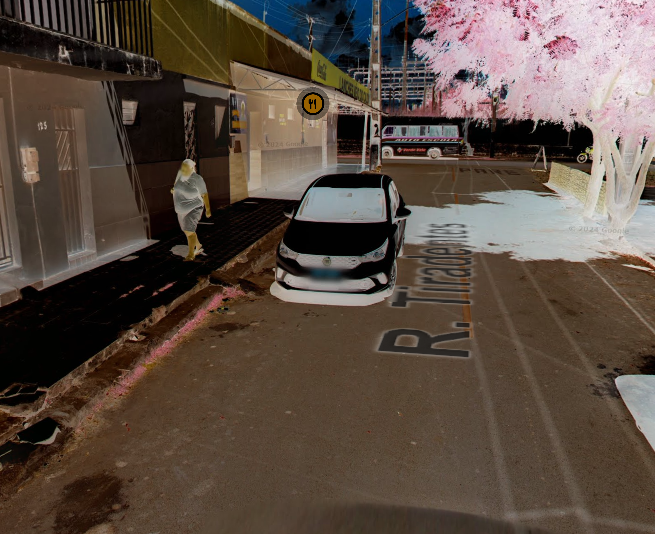car: (269, 160, 418, 312)
